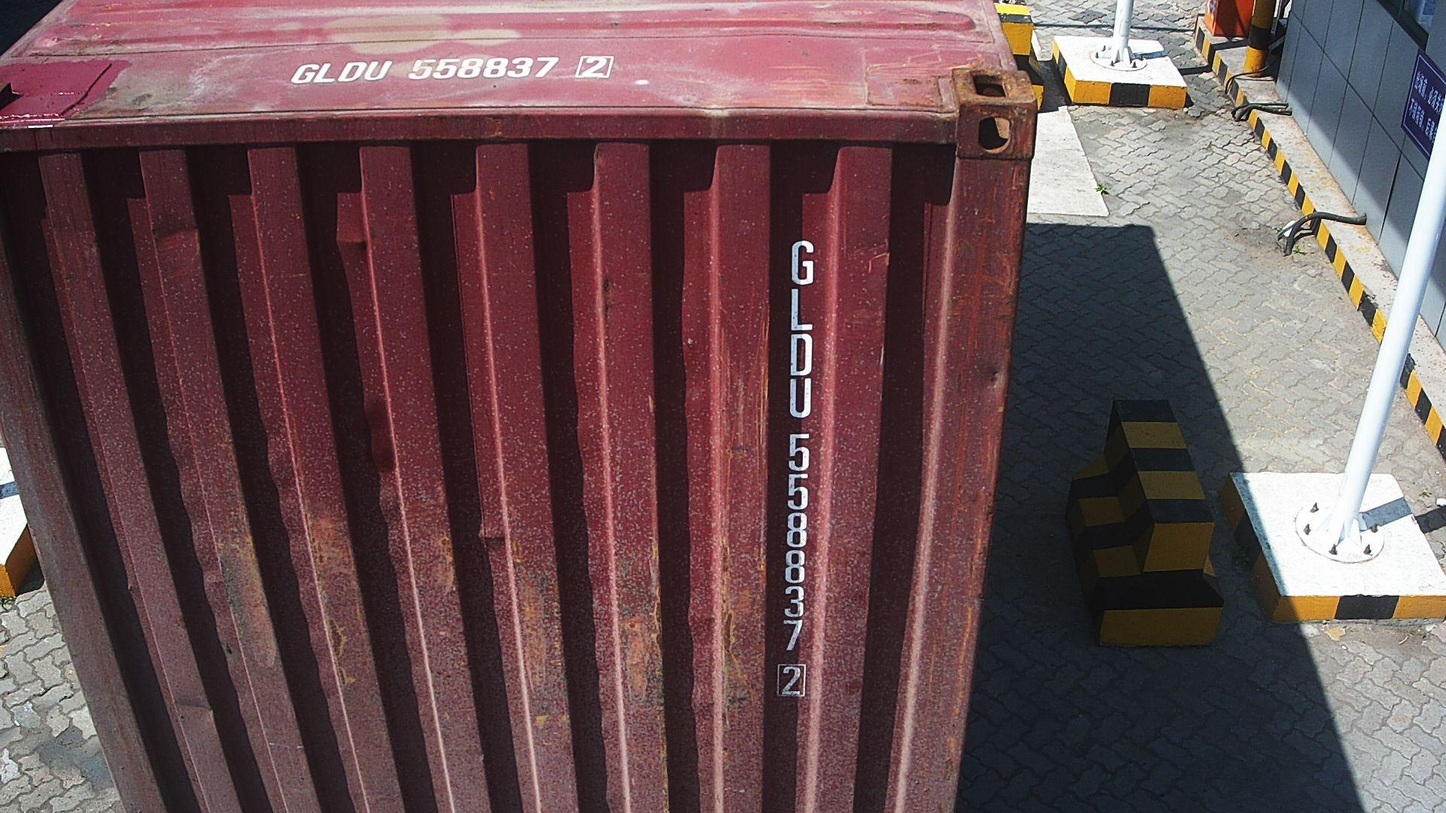container-numbers: (768, 235, 825, 701), (283, 53, 624, 85)
